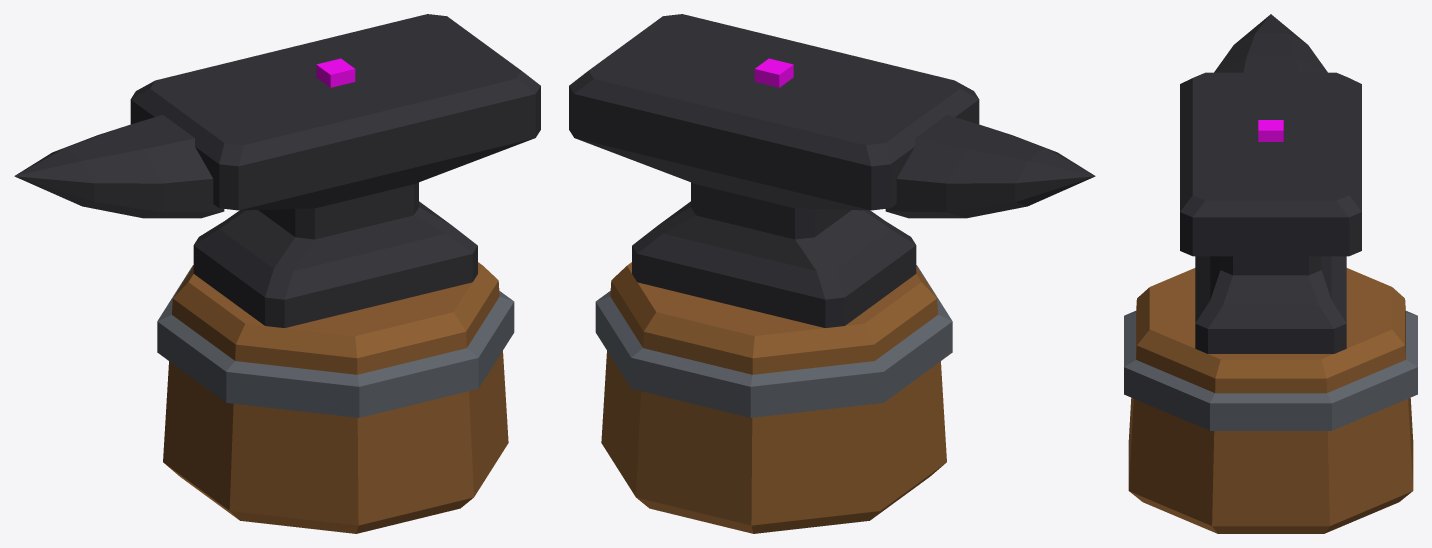
File: FRG_Anvil.fbx
3 renders of one model, left to right at view 1: azimuth 30°, elevation 25°; view 2: azimuth 150°, elevation 25°; view 3: azimuth 270°, elevation 25°, orthographic. The views are drawn at different scales.
Visible parts, largest first — view 1: Body, Stump, Band, IngotPoint; view 2: Body, Stump, Band, IngotPoint; view 3: Body, Stump, Band, IngotPoint.
Part boxes in pixels (left/top/right/bottom): Body: left=14, top=14, right=540, bottom=327; Stump: left=163, top=262, right=508, bottom=533; Band: left=157, top=265, right=514, bottom=417; IngotPoint: left=316, top=58, right=355, bottom=87; Body: left=569, top=14, right=1095, bottom=327; Stump: left=601, top=262, right=946, bottom=533; Band: left=595, top=265, right=952, bottom=417; IngotPoint: left=754, top=58, right=793, bottom=87; Body: left=1180, top=14, right=1361, bottom=353; Stump: left=1128, top=268, right=1413, bottom=533; Band: left=1124, top=311, right=1417, bottom=430; IngotPoint: left=1258, top=120, right=1283, bottom=141.
Bounding box in the file's own units: 3.9 × 3.1 × 2.33.
